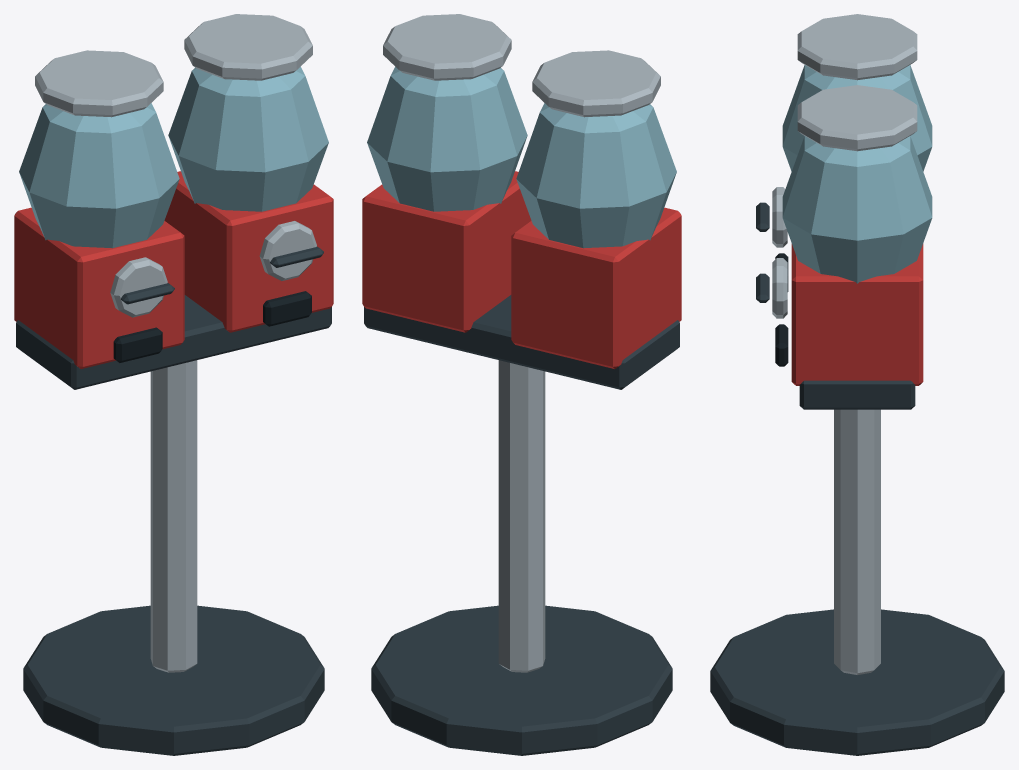
Rendered from b10_twin_globe_candy_dispenser.glb.
The picture shows the model from 3 angles, left to right: view 1: azimuth 30°, elevation 25°; view 2: azimuth 150°, elevation 25°; view 3: azimuth 270°, elevation 25°; orthographic projection. The views are drawn at different scales.
Parts seen in each view (by area): view 1: b10_twin_globe_candy_dispenser; view 2: b10_twin_globe_candy_dispenser; view 3: b10_twin_globe_candy_dispenser.
Boxes of the visible parts, bbox=[...] form: b10_twin_globe_candy_dispenser: bbox=[14, 14, 333, 755]; b10_twin_globe_candy_dispenser: bbox=[362, 14, 681, 755]; b10_twin_globe_candy_dispenser: bbox=[710, 14, 1004, 755].
Size of the model in its own units: 0.62 by 1.3 by 0.56.
